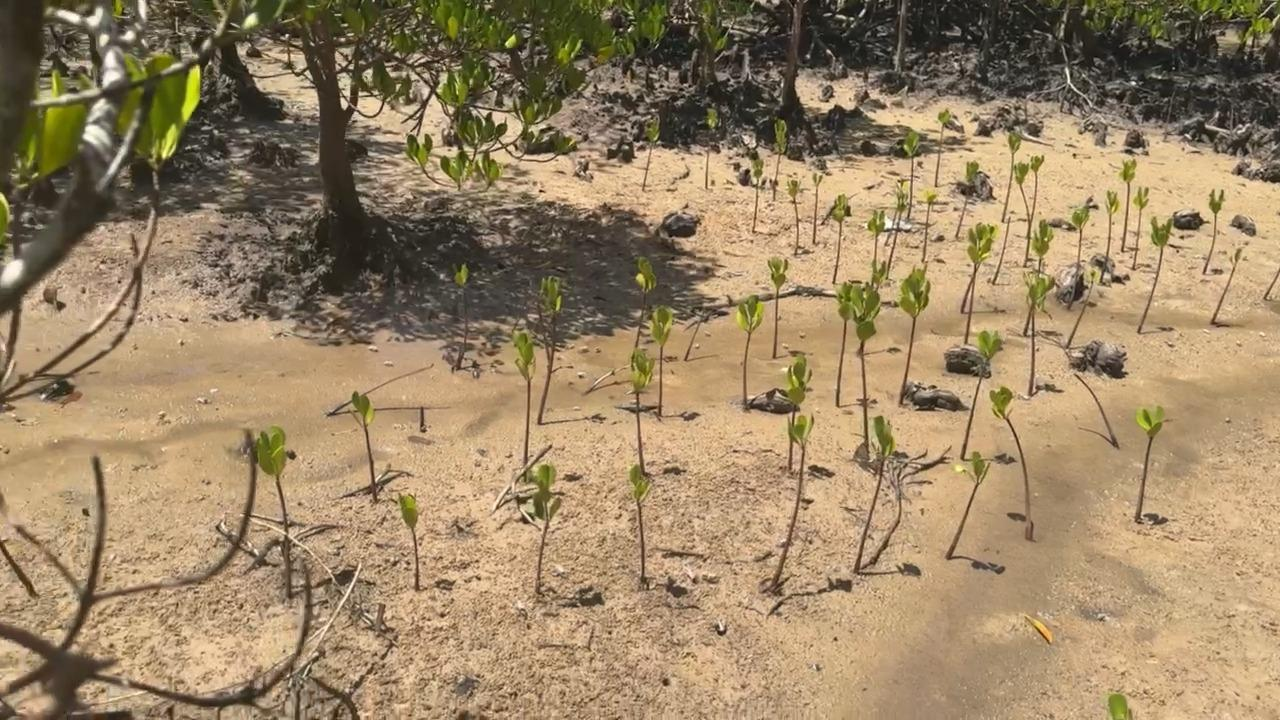Tree: (768, 415, 815, 585), (851, 418, 894, 571), (990, 387, 1034, 534), (254, 428, 291, 598), (961, 328, 1004, 459), (850, 283, 879, 454), (948, 451, 993, 558), (897, 267, 930, 404), (1136, 215, 1173, 333), (963, 222, 997, 341), (1072, 369, 1121, 447), (536, 275, 562, 422), (1132, 406, 1165, 521), (1023, 218, 1055, 334), (1026, 272, 1055, 394), (534, 464, 561, 592), (513, 329, 538, 466), (630, 349, 655, 476), (738, 296, 764, 412), (351, 392, 378, 502), (787, 357, 813, 470), (1067, 204, 1094, 311), (631, 465, 654, 581), (834, 280, 855, 407), (651, 305, 674, 417), (631, 257, 657, 353), (1064, 270, 1094, 349), (1212, 248, 1242, 326), (454, 264, 476, 369), (886, 182, 910, 278), (399, 493, 422, 587), (956, 160, 984, 237), (1100, 189, 1122, 284), (1202, 189, 1225, 275), (1129, 185, 1152, 271), (1001, 130, 1022, 222), (1014, 163, 1032, 264), (832, 193, 851, 283), (1120, 158, 1138, 251), (642, 113, 662, 190), (904, 131, 921, 219), (769, 119, 786, 202), (992, 215, 1012, 284), (1026, 154, 1043, 233), (920, 192, 939, 262), (935, 108, 952, 186), (701, 109, 718, 186), (786, 178, 803, 255), (885, 181, 905, 243), (685, 312, 710, 359), (870, 209, 886, 281), (809, 174, 825, 245), (959, 262, 979, 314), (751, 157, 764, 229), (1106, 694, 1132, 720), (1264, 266, 1280, 298)
